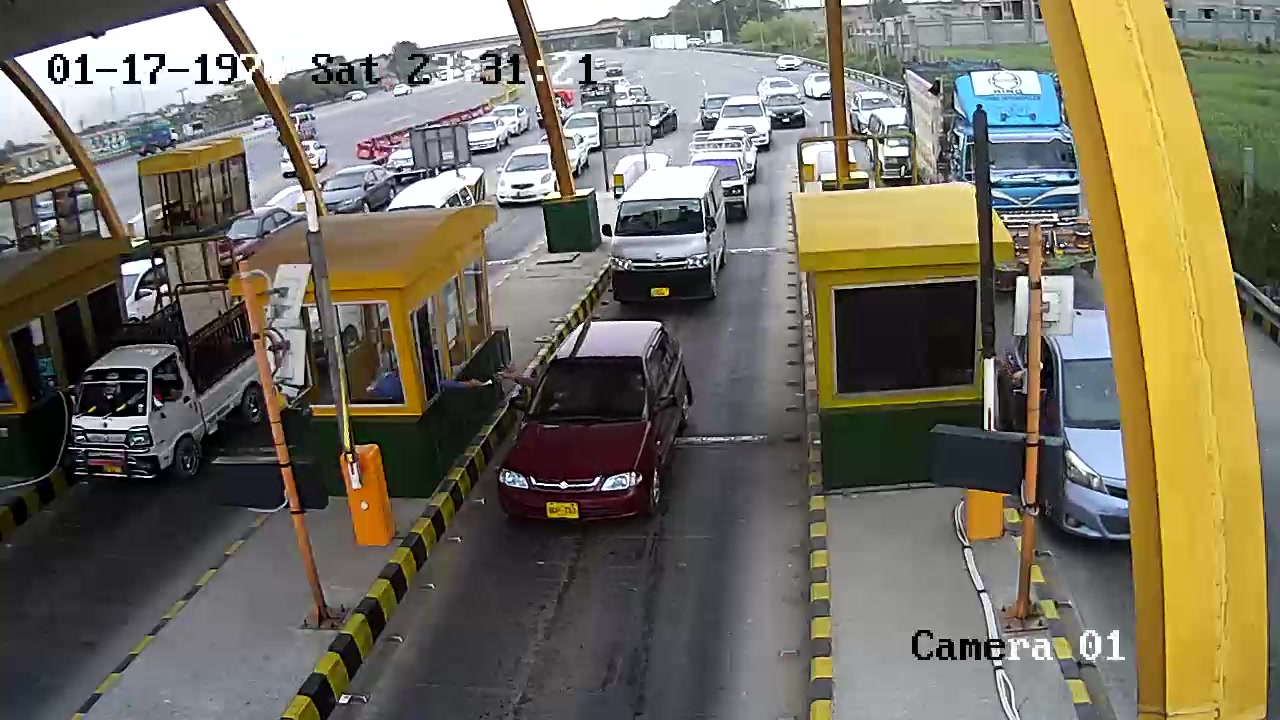F1: (493, 319, 714, 523)
F3: (606, 159, 729, 308)
